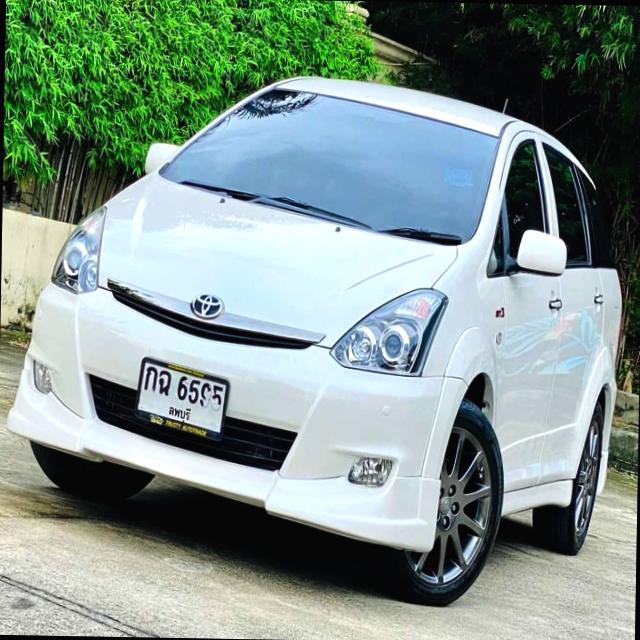license_plate: (131, 352, 236, 443)
